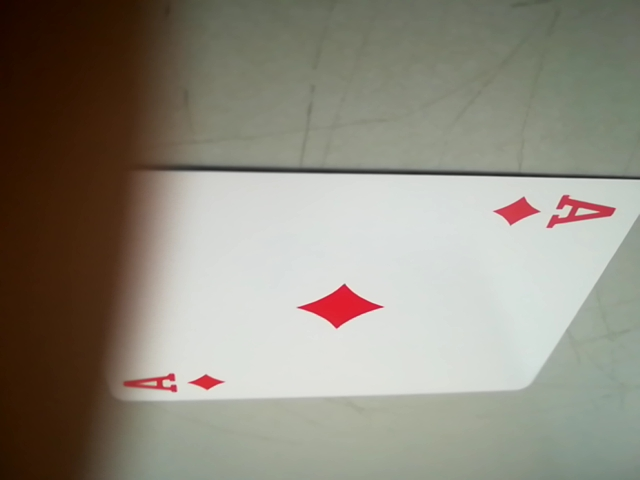fk a: (489, 189, 624, 235), (113, 366, 235, 400)
